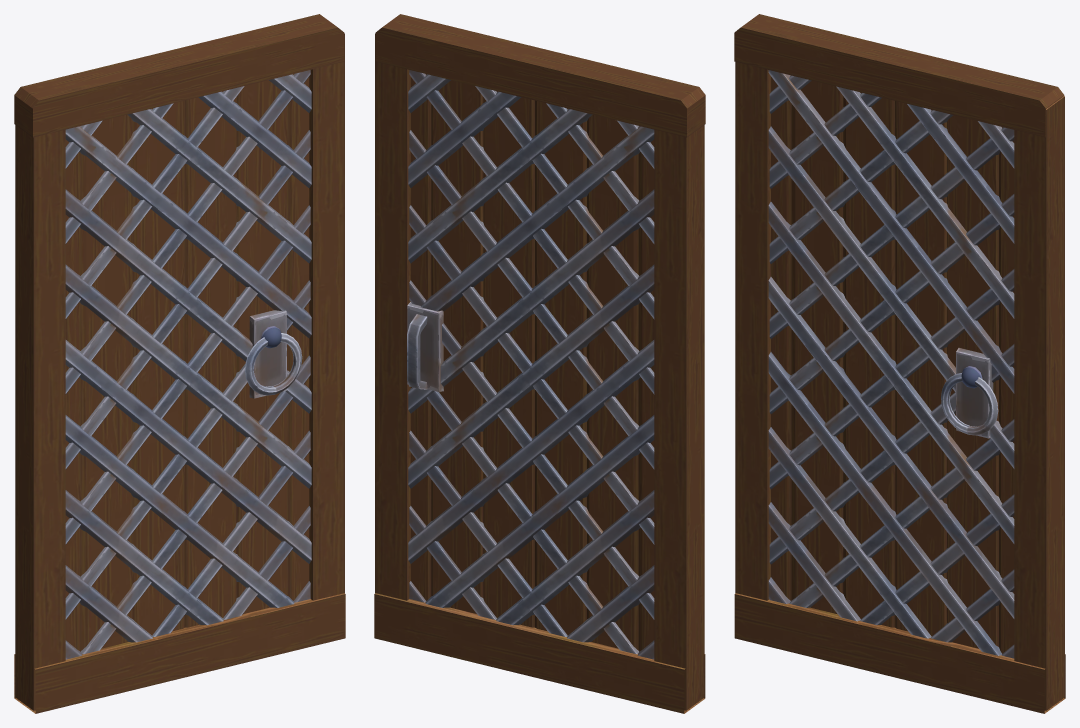
The model's file is Door_4_Flat.glb.
The picture shows the model from 3 angles, left to right: view 1: azimuth 30°, elevation 25°; view 2: azimuth 150°, elevation 25°; view 3: azimuth 330°, elevation 25°; orthographic projection.
Visible parts, largest first — view 1: Door_4_Flat; view 2: Door_4_Flat; view 3: Door_4_Flat.
Boxes of the visible parts, x1=… form: Door_4_Flat: x1=14, y1=14, x2=345, y2=713; Door_4_Flat: x1=374, y1=14, x2=705, y2=713; Door_4_Flat: x1=734, y1=14, x2=1065, y2=713.
Size of the model in its own units: 1.12 by 2.09 by 0.2094.
Materials: 2 (2 with a texture image).
